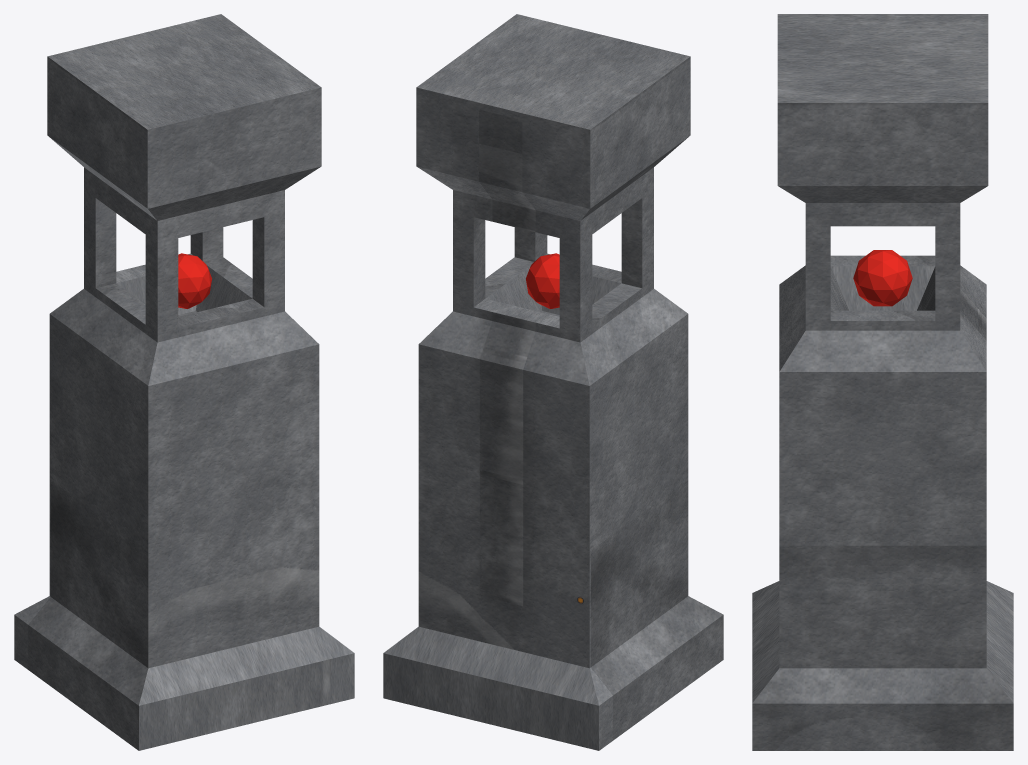
File: Torch.glb
3 views of the same model, side by side, from view 1: azimuth 30°, elevation 25°; view 2: azimuth 150°, elevation 25°; view 3: azimuth 270°, elevation 25° (orthographic). The views are drawn at different scales.
Visible parts, largest first — view 1: Cube; view 2: Cube; view 3: Cube.
Part boxes in pixels (bbox=[...]): Cube: bbox=[14, 14, 354, 750]; Cube: bbox=[383, 14, 723, 750]; Cube: bbox=[752, 14, 1013, 750].
Size of the model in its own units: 2 by 5.38 by 2.
Materials: 2 (1 with a texture image).
